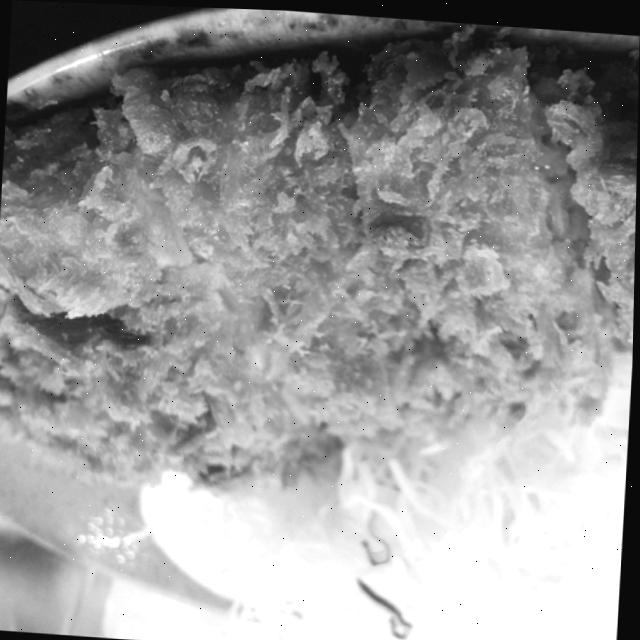鸡肉料理 含炸鸡: (0, 11, 640, 530)
